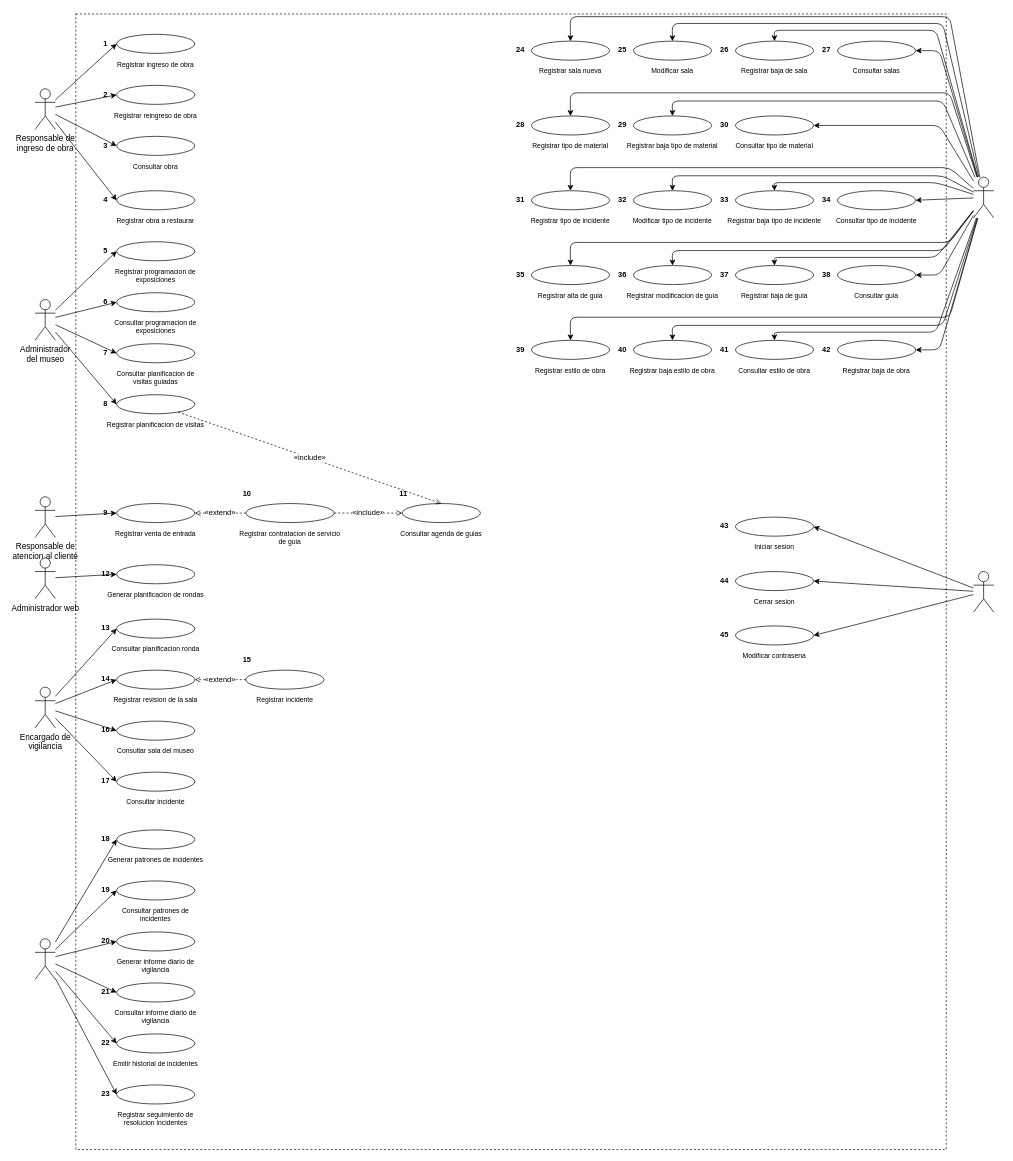
Image size: 1013x1161. Some labels were removed from this diagram. Each missing label, with the box of its shape:
Admin de sistema: (973, 176, 994, 218)
Encargado de supervision: (34, 938, 55, 980)
Usuario: (973, 571, 994, 612)
